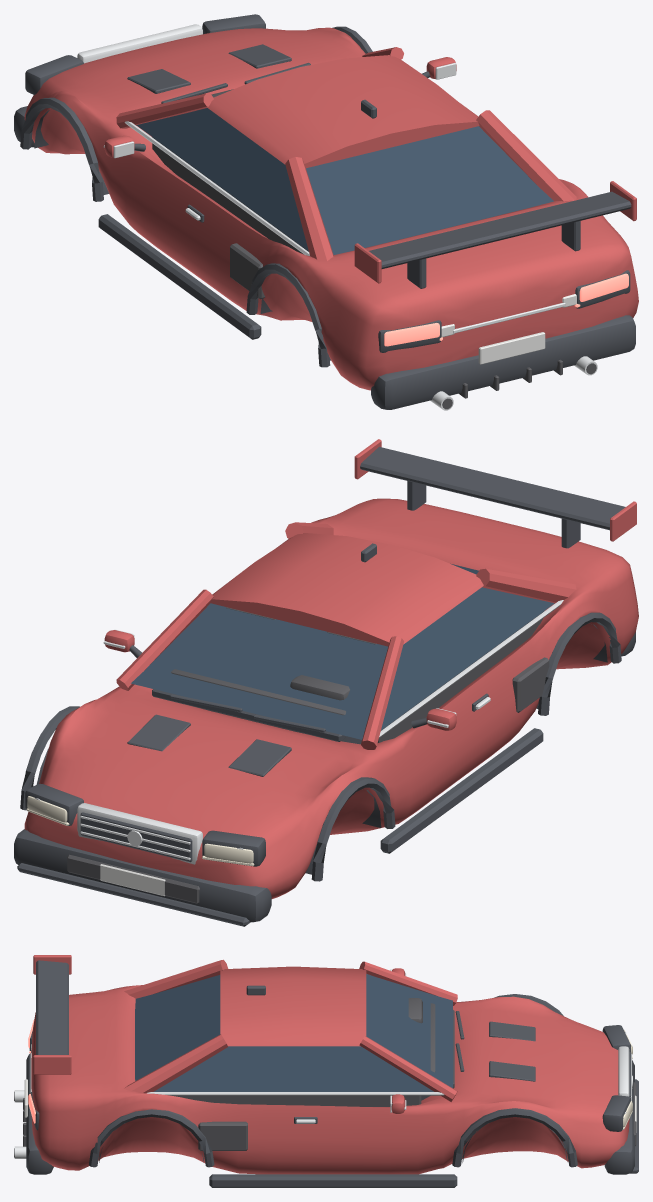
Rendered from Car_SportsCoupe.fbx.
3 renders of one model, top to bottom at view 1: azimuth 30°, elevation 25°; view 2: azimuth 150°, elevation 25°; view 3: azimuth 270°, elevation 25°, orthographic. The views are drawn at different scales.
Visible parts, largest first — view 1: Car_SportsCoupe, Car_Taillights; view 2: Car_SportsCoupe, Car_Headlights; view 3: Car_SportsCoupe.
Part boxes in pixels (<box>): Car_SportsCoupe: <box>14,14,638,410</box>; Car_Taillights: <box>384,273,628,346</box>; Car_SportsCoupe: <box>14,439,638,926</box>; Car_Headlights: <box>26,796,254,866</box>; Car_SportsCoupe: <box>14,955,638,1187</box>.
Size of the model in its own units: 2.35 by 1.17 by 4.54.
